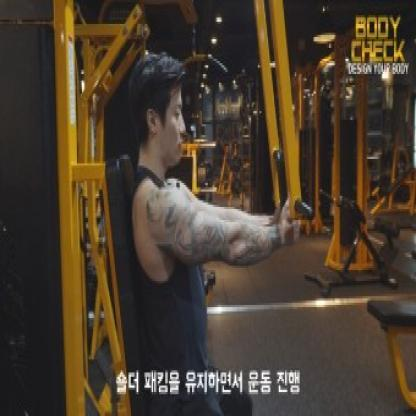chest fly machine: (24, 0, 340, 416)
